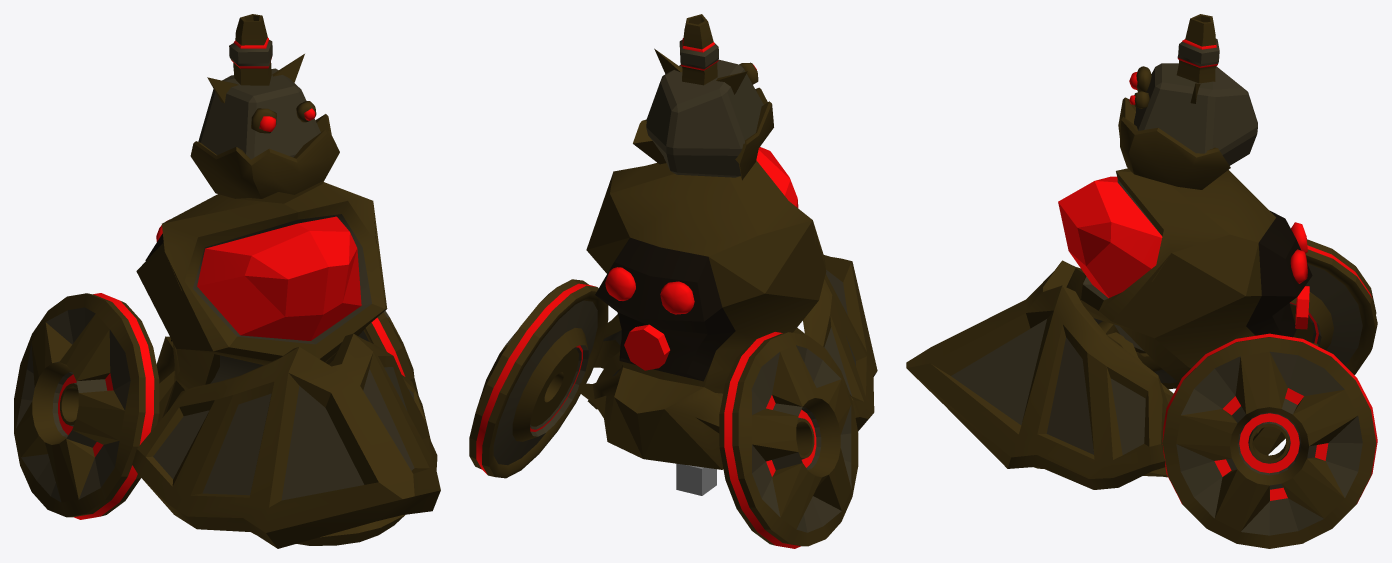
The model's file is ChargeBot.obj.
3 renders of one model, left to right at view 1: azimuth 30°, elevation 25°; view 2: azimuth 150°, elevation 25°; view 3: azimuth 270°, elevation 25°, orthographic. The views are drawn at different scales.
Visible parts, largest first — view 1: ChargeBot ChariotBody, ChargeBot MainBody, ChargeBot Wheels, ChargeBot Chest, ChargeBot ChariotDetails, ChargeBot head_jaw, ChargeBot head_skull, ChargeBot WheelsDetails2, ChargeBot WheelsDetails1, ChargeBot head_tip1, ChargeBot chariot, ChargeBot head_tip3 (+2 smaller); view 2: ChargeBot MainBody, ChargeBot Wheels, ChargeBot Backpack, ChargeBot head_skull, ChargeBot WheelsDetails2, ChargeBot ChariotBody, ChargeBot WheelsDetails1, ChargeBot head_jaw, ChargeBot thruster, ChargeBot thruster1, ChargeBot head_tip1, ChargeBot (+4 smaller); view 3: ChargeBot Wheels, ChargeBot ChariotBody, ChargeBot MainBody, ChargeBot WheelsDetails2, ChargeBot ChariotDetails, ChargeBot Chest, ChargeBot head_skull, ChargeBot head_jaw, ChargeBot Backpack, ChargeBot WheelsDetails1, ChargeBot head_tip1, ChargeBot chariot (+2 smaller).
Boxes of the visible parts, <box> form: ChargeBot ChariotBody: <box>132,333,440,548</box>; ChargeBot MainBody: <box>136,182,387,423</box>; ChargeBot Wheels: <box>14,293,418,517</box>; ChargeBot Chest: <box>197,216,361,340</box>; ChargeBot ChariotDetails: <box>153,367,414,500</box>; ChargeBot head_jaw: <box>190,114,339,203</box>; ChargeBot head_skull: <box>198,68,320,159</box>; ChargeBot WheelsDetails2: <box>16,307,389,501</box>; ChargeBot WheelsDetails1: <box>58,293,405,519</box>; ChargeBot head_tip1: <box>233,14,271,85</box>; ChargeBot chariot: <box>296,514,405,545</box>; ChargeBot head_tip3: <box>229,39,272,66</box>; ChargeBot MainBody: <box>577,160,826,469</box>; ChargeBot Wheels: <box>469,279,858,546</box>; ChargeBot Backpack: <box>595,237,735,381</box>; ChargeBot head_skull: <box>646,59,763,177</box>; ChargeBot WheelsDetails2: <box>493,300,851,532</box>; ChargeBot ChariotBody: <box>593,255,877,431</box>; ChargeBot WheelsDetails1: <box>476,283,816,548</box>; ChargeBot head_jaw: <box>633,87,773,180</box>; ChargeBot thruster: <box>605,267,694,314</box>; ChargeBot thruster1: <box>624,324,670,370</box>; ChargeBot head_tip1: <box>682,14,717,85</box>; ChargeBot: <box>676,463,716,495</box>; ChargeBot Wheels: <box>1162,239,1377,548</box>; ChargeBot ChariotBody: <box>906,260,1168,489</box>; ChargeBot MainBody: <box>1081,168,1318,455</box>; ChargeBot WheelsDetails2: <box>1176,264,1362,535</box>; ChargeBot ChariotDetails: <box>951,319,1145,454</box>; ChargeBot Chest: <box>1058,176,1162,298</box>; ChargeBot head_skull: <box>1134,63,1257,165</box>; ChargeBot head_jaw: <box>1118,97,1230,189</box>; ChargeBot Backpack: <box>1246,210,1312,337</box>; ChargeBot WheelsDetails1: <box>1162,245,1377,504</box>; ChargeBot head_tip1: <box>1176,14,1216,83</box>; ChargeBot chariot: <box>1033,321,1173,477</box>.
Bounding box in the file's own units: 12.72 × 17.23 × 15.86.
